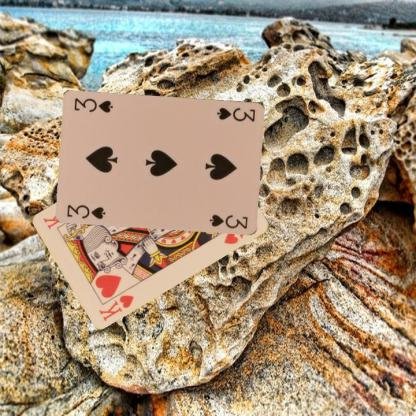3s: (214, 105, 257, 123), (64, 202, 107, 220)
Kh: (96, 292, 135, 322)
